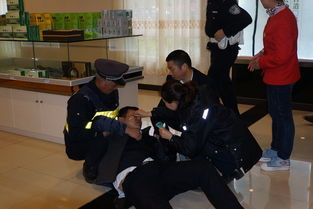fall: (99, 98, 250, 209)
